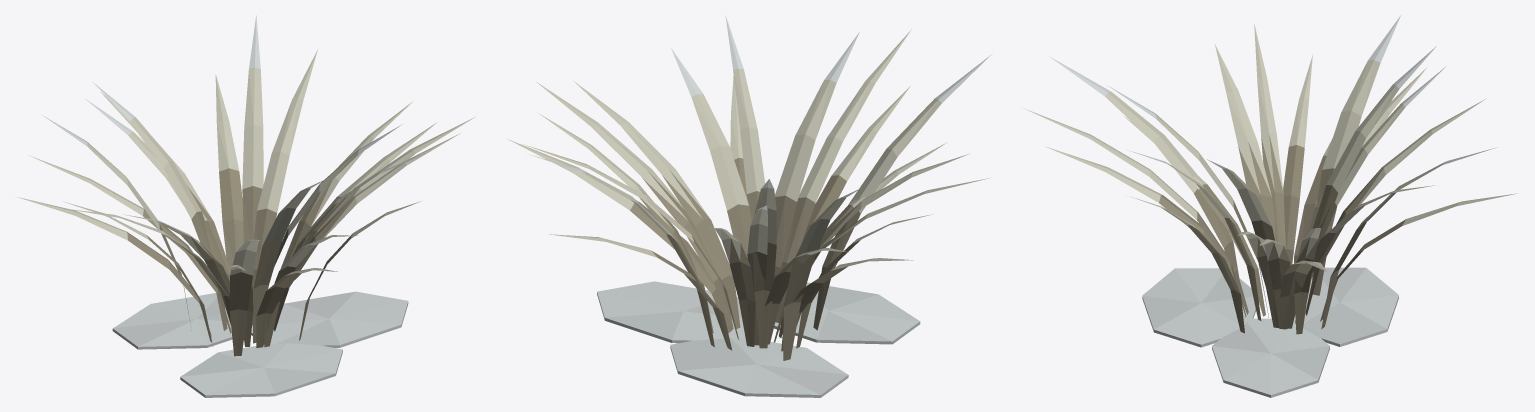
File: grass_tuft_d_winter.glb
3 views of the same model, side by side, from view 1: azimuth 30°, elevation 25°; view 2: azimuth 150°, elevation 25°; view 3: azimuth 270°, elevation 25° (orthographic). The views are drawn at different scales.
Visible parts, largest first — view 1: geometry; view 2: geometry; view 3: geometry.
Part boxes in pixels (x1=…): geometry: x1=17, y1=15, x2=474, y2=397; geometry: x1=507, y1=15, x2=991, y2=397; geometry: x1=1023, y1=14, x2=1518, y2=397.
Size of the model in its own units: 0.4868 by 0.25 by 0.4851.
